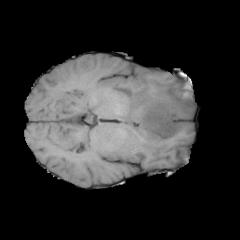glioma: (111, 75, 190, 151)
